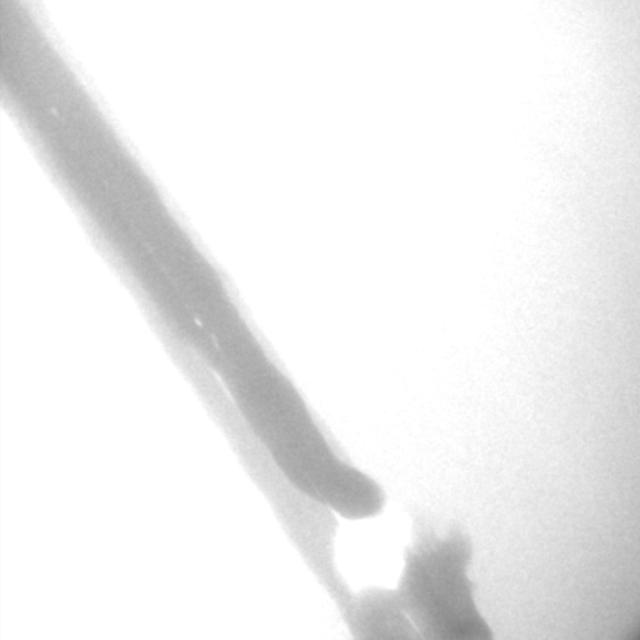air hole: (49, 106, 58, 118), (193, 318, 202, 327)
broken arc: (207, 365, 424, 636)
